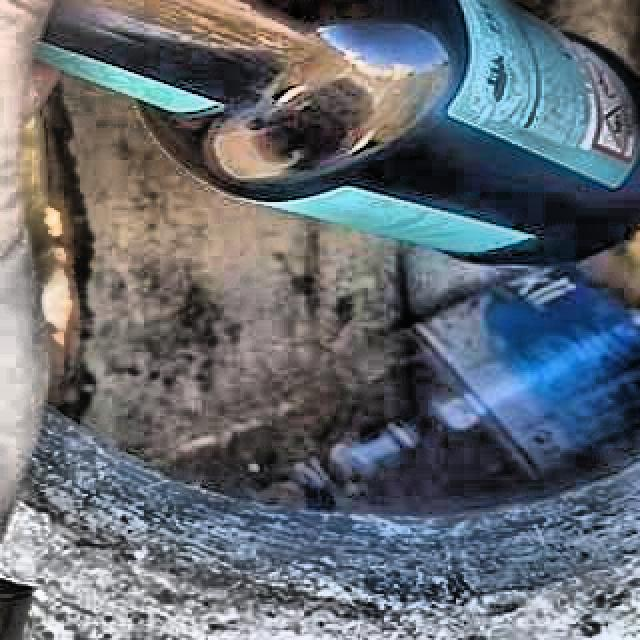glass: (40, 0, 640, 263)
